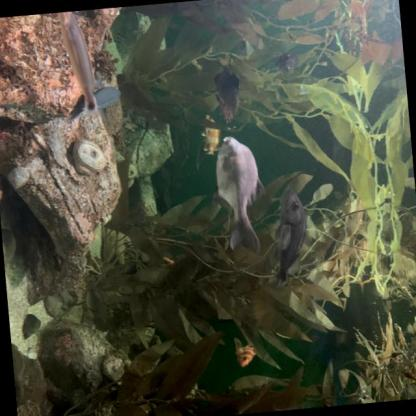fish: (210, 131, 271, 256), (260, 185, 313, 291), (57, 9, 98, 118), (208, 49, 244, 127), (78, 82, 126, 118), (200, 108, 224, 158), (231, 334, 258, 372), (274, 47, 301, 80)
